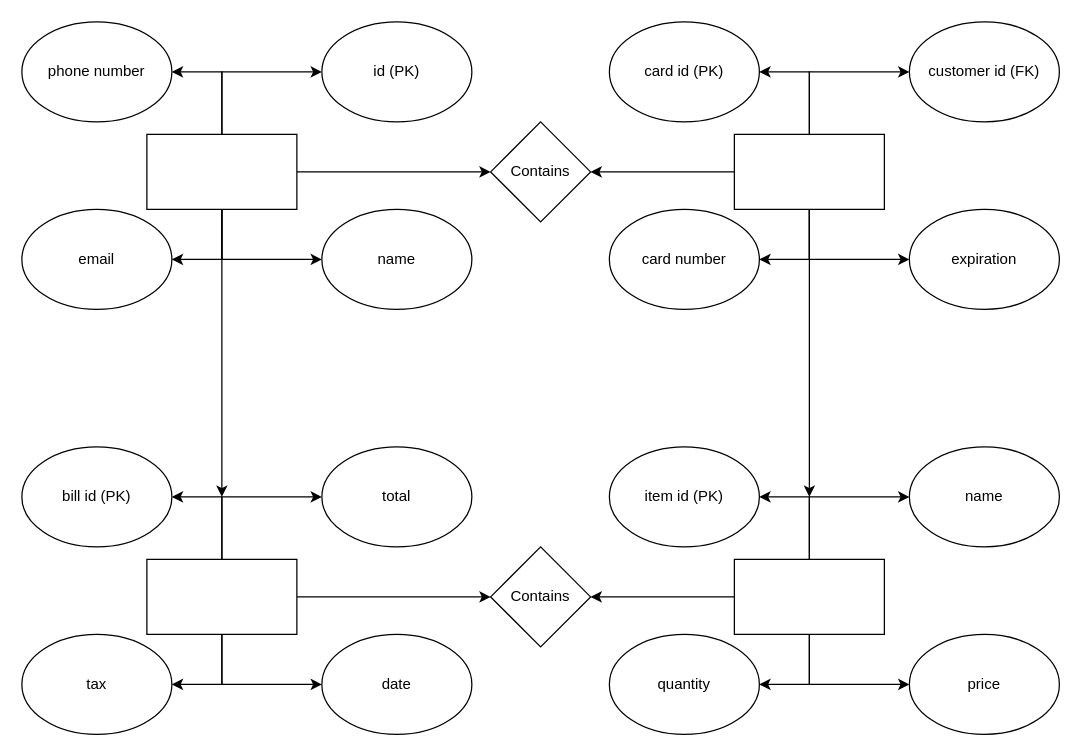
Some shapes in this 1081 by 756 pixel diagram are drawn without their labels. The centre of each missing label's shape, as x and y in pixels:
Bill Item: (x=808, y=596)
Bill Term: (x=221, y=596)
Credit Card: (x=808, y=171)
Customer: (x=221, y=171)
